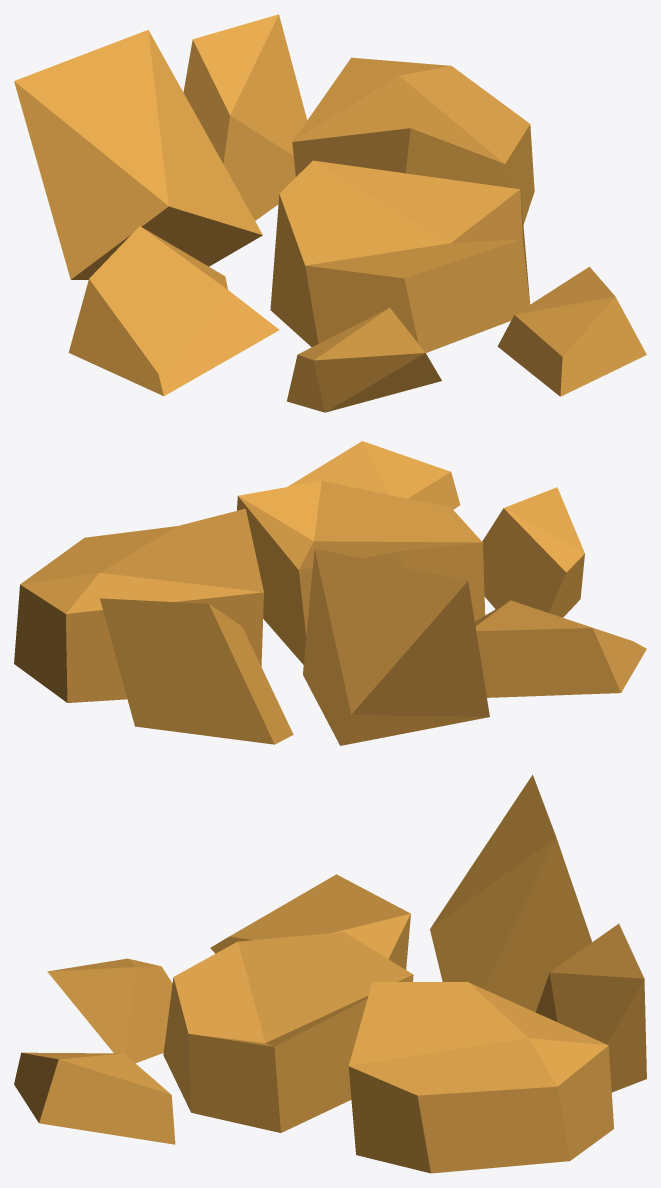
File: resources-aluminium.glb
3 renders of one model, top to bottom at view 1: azimuth 30°, elevation 25°; view 2: azimuth 150°, elevation 25°; view 3: azimuth 270°, elevation 25°, orthographic. The views are drawn at different scales.
Visible parts, largest first — view 1: aluminium; view 2: aluminium; view 3: aluminium.
Boxes of the visible parts, x1,y1,x2,y2 form: aluminium: (14, 14, 646, 412); aluminium: (14, 441, 646, 745); aluminium: (14, 775, 646, 1173).
Size of the model in its own units: 0.6169 by 0.2595 by 0.6754.
